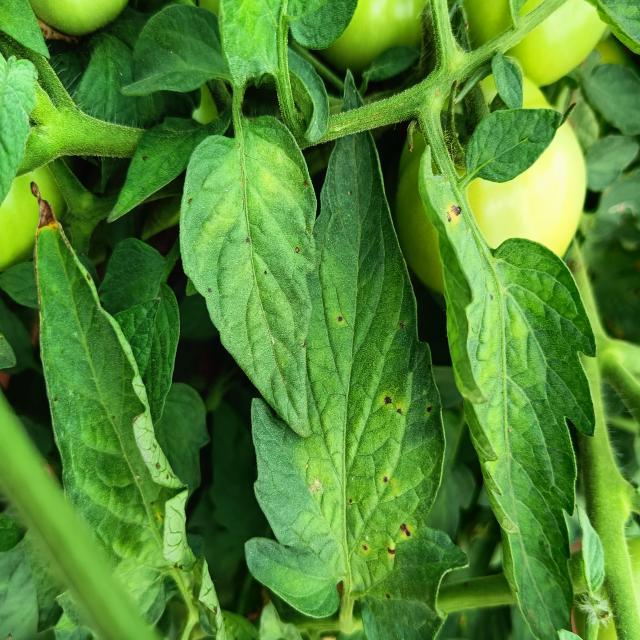Tomato mosaic virus leaf: (27, 176, 200, 580), (432, 160, 596, 530), (175, 132, 321, 439), (324, 262, 448, 614)
